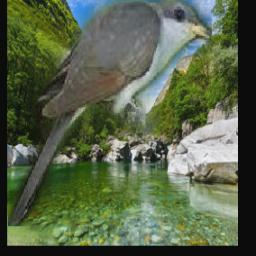Cuckoo: (8, 0, 212, 226)
